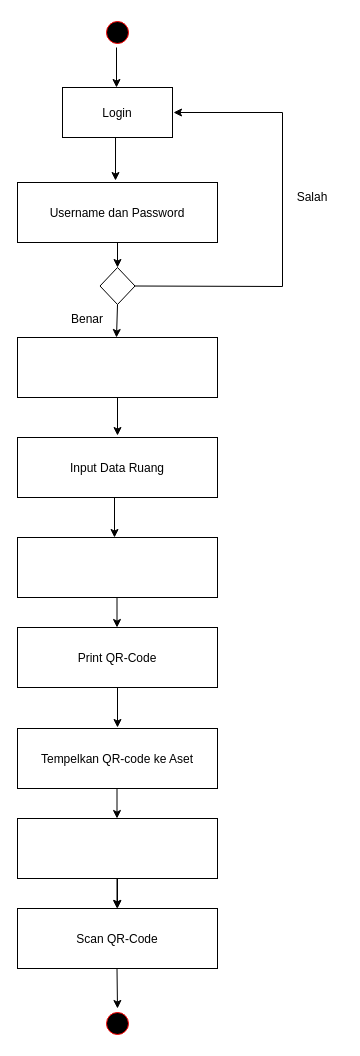
Image size: 360x1056. Some labels were removed from this diagram. Each missing label, with the centre of its shape:
Input Data Aset: [117,567]
Input Data Gedung: [117,367]
Logout: [117,848]
